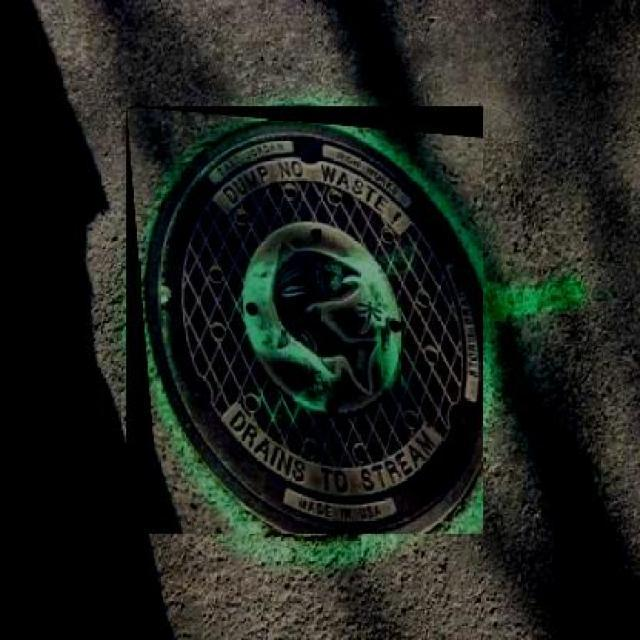Manhole: (126, 106, 483, 534)
